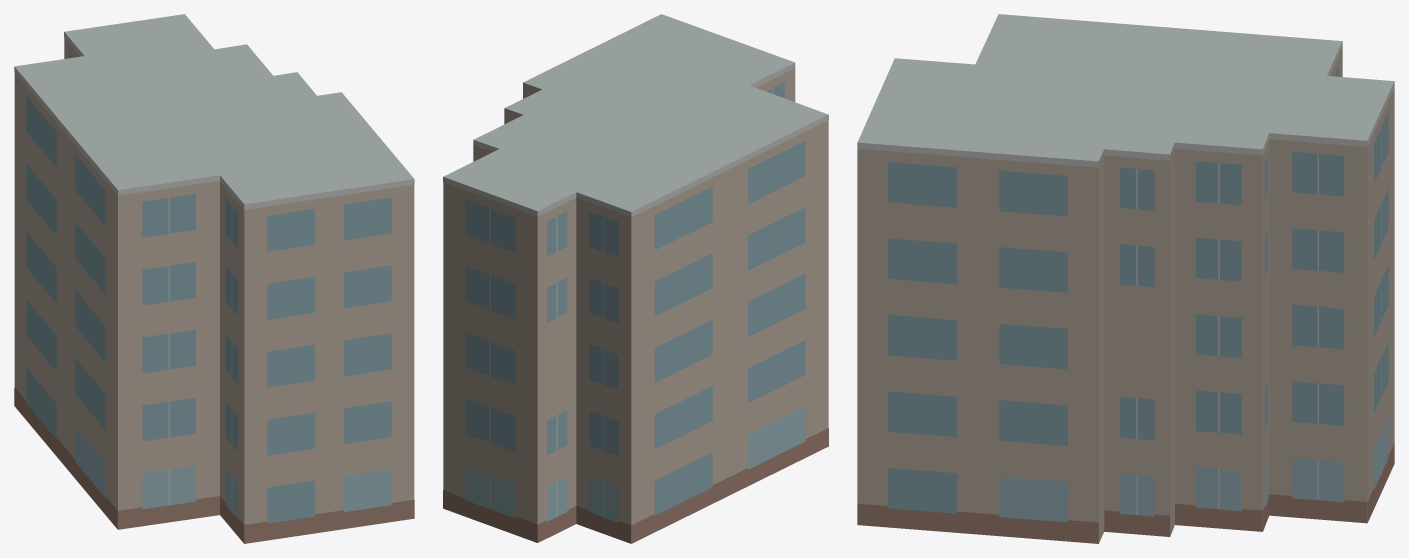
Rendered from survey-upis-32933692.glb.
3 renders of one model, left to right at view 1: azimuth 30°, elevation 25°; view 2: azimuth 150°, elevation 25°; view 3: azimuth 270°, elevation 25°, orthographic. The views are drawn at different scales.
Parts seen in each view (by area): view 1: survey-upis-32933692.tmp; view 2: survey-upis-32933692.tmp; view 3: survey-upis-32933692.tmp.
Part boxes in pixels (x1,y1,x2,y2): survey-upis-32933692.tmp: (14,14,414,543); survey-upis-32933692.tmp: (443,14,828,543); survey-upis-32933692.tmp: (857,14,1394,543).
Bounding box in the file's own units: 12.49 × 15.1 × 19.23.
